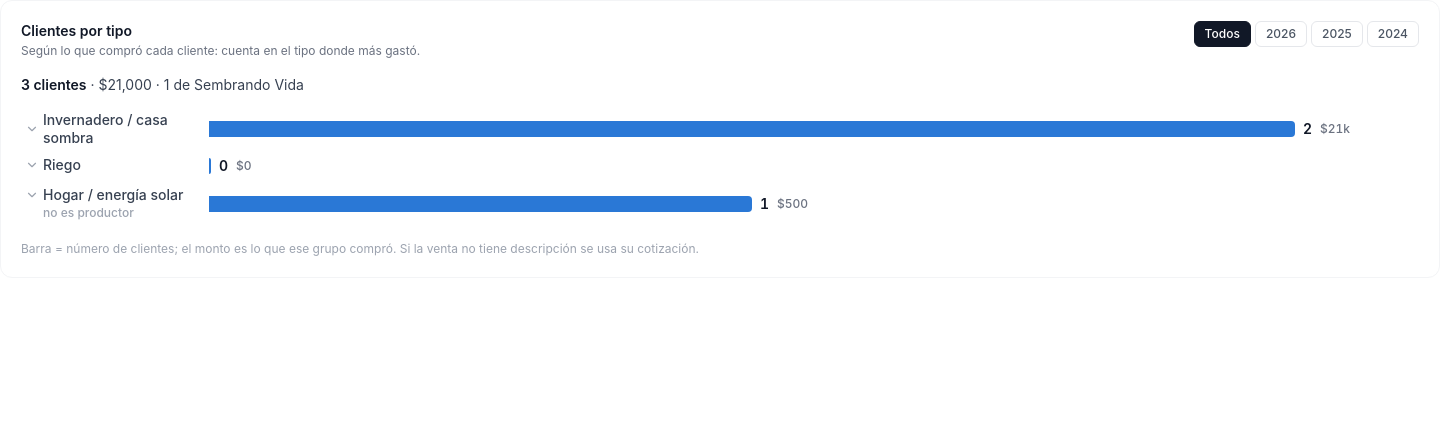
Test: shows buyers per type and opens the customers of a type
Expected: the text "3 clientes" reads "3 clientes · $21,000 · 1 de Sembrando Vida", [21, 76, 304, 93]
Expected: the text "no es productor" is shown, [43, 205, 134, 220]
Click the button "Invernadero / casa sombra 2 $21k".
click(720, 128)  # box [21, 107, 1419, 150]
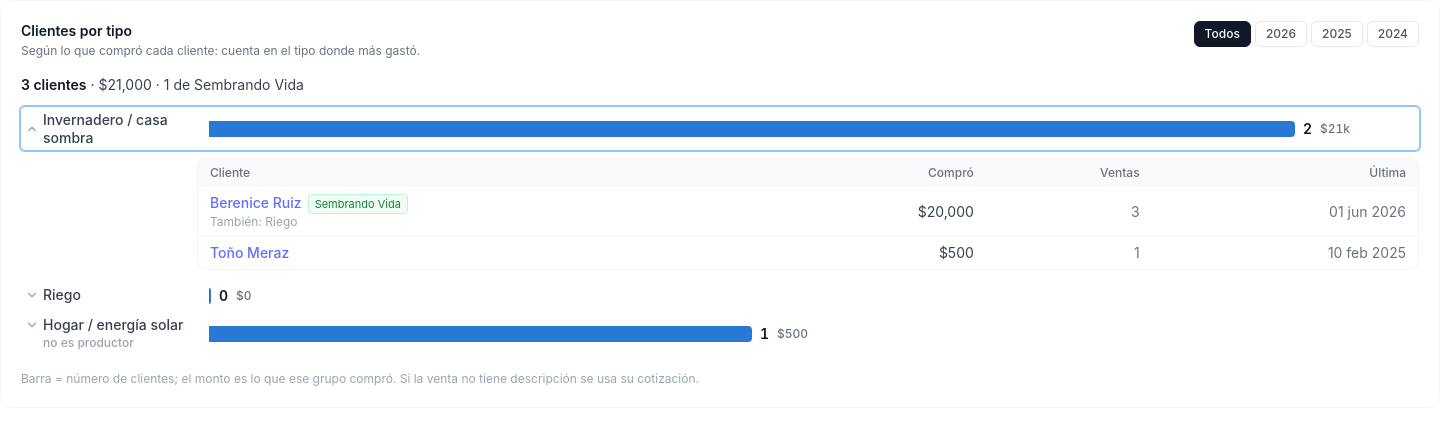
Now the text "También: Riego" is shown, box [210, 214, 298, 229]
Now the text "Sembrando Vida" is shown, box [308, 194, 408, 214]
